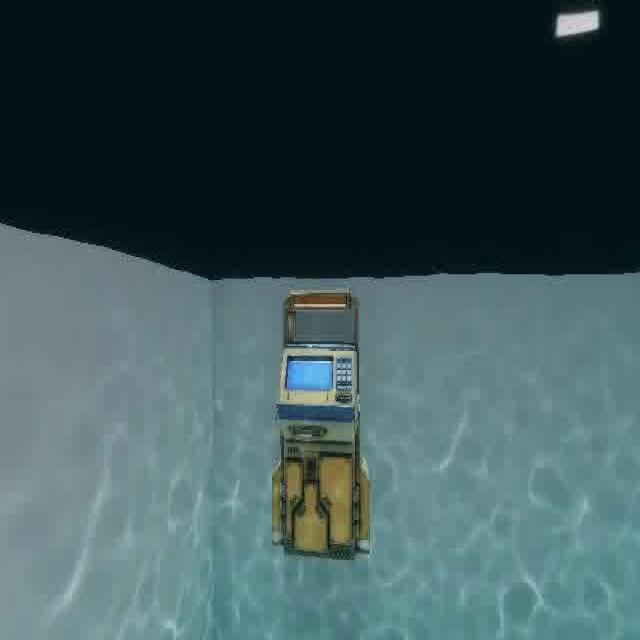Control Panel: (264, 280, 388, 574)
